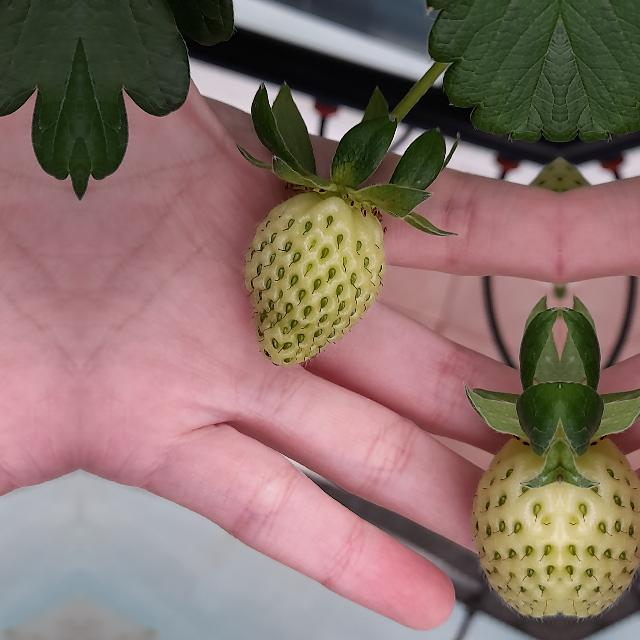Health_25: (244, 192, 386, 366), (462, 421, 560, 625), (560, 421, 640, 625)
